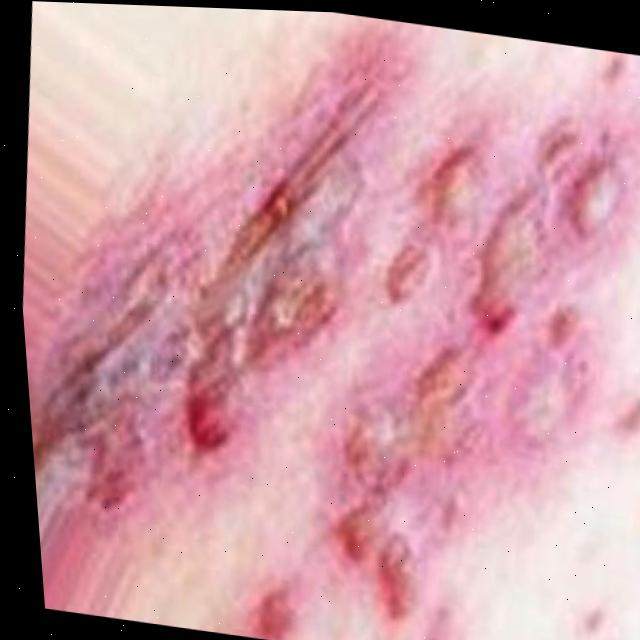Shingles: (4, 53, 640, 640)
